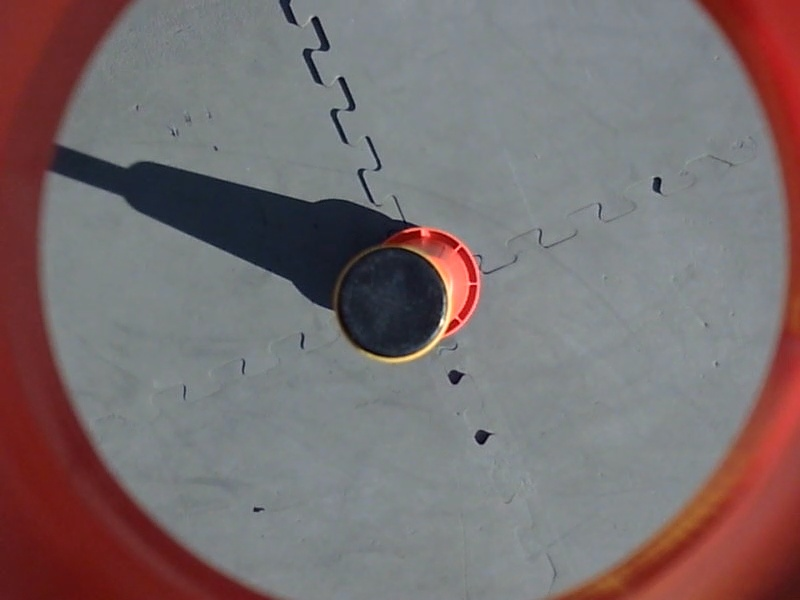tip: (333, 249, 452, 365)
